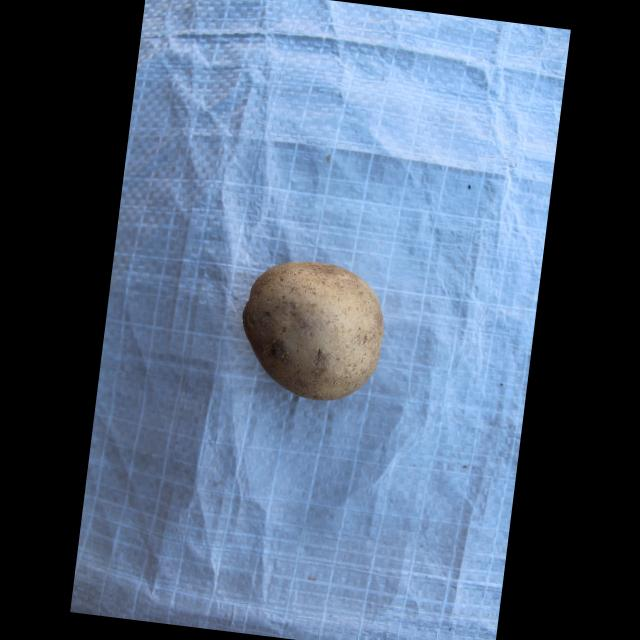Diseased-fungal potato: (232, 251, 394, 410)
